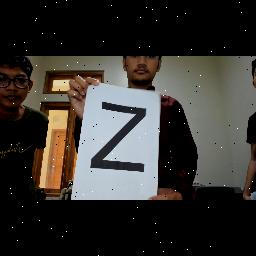z: (87, 98, 151, 176)
